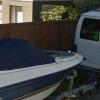Boat: (1, 28, 83, 99)
